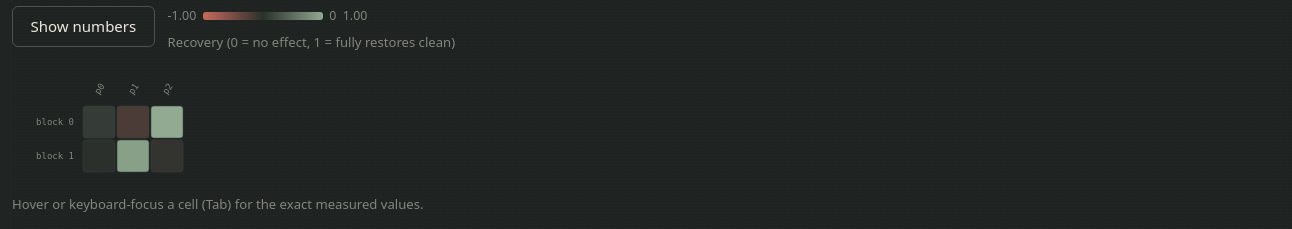
Test: SweepHeatmap › toggle renders the accessible numbers table with the same values
The image size is (1292, 229).
Step 1. Click the button "Show numbers" → (83, 26), box x1=12 y1=6 x2=155 y2=47
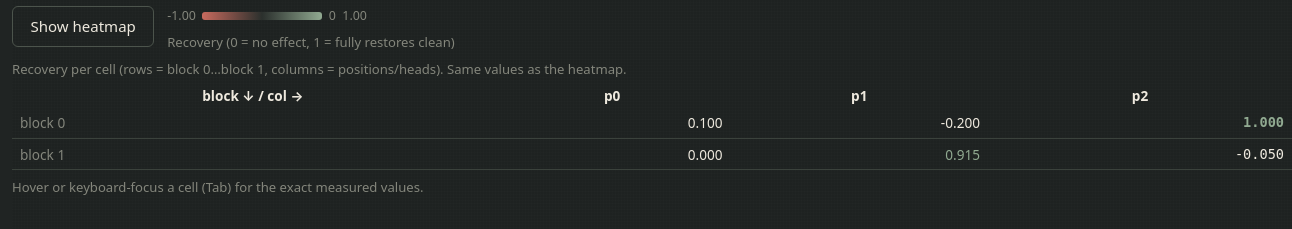
Expected: the table is shown, x1=12 y1=59 x2=1291 y2=170
Expected: the text "1.000" is shown, x1=988 y1=107 x2=1291 y2=138
Expected: the text "0.915" is shown, x1=731 y1=138 x2=988 y2=170
Step 2. Click the button "Show heatmap" → (83, 26), box x1=12 y1=6 x2=154 y2=47
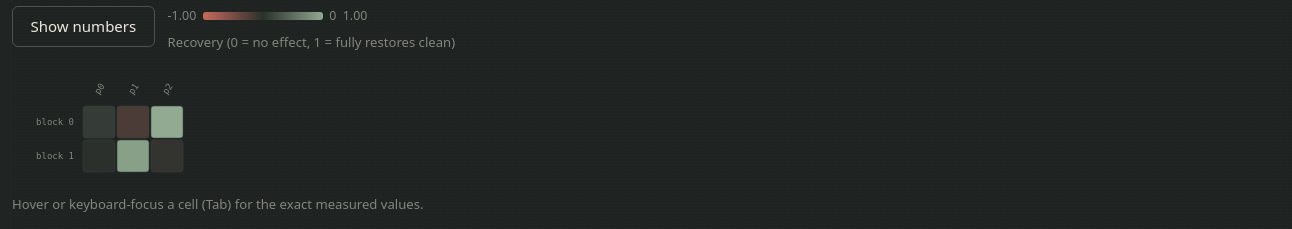
Expected: the table is gone
